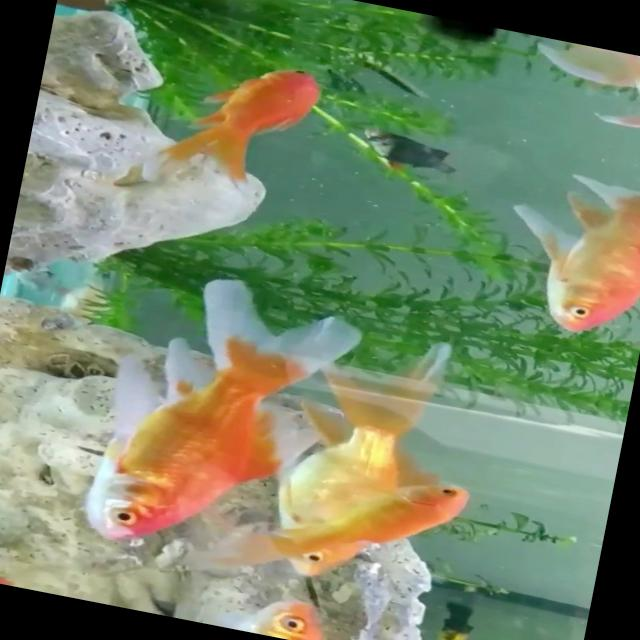GoldFish: (42, 252, 384, 589), (248, 306, 472, 610), (182, 428, 490, 630), (125, 34, 332, 214), (479, 149, 640, 357)
